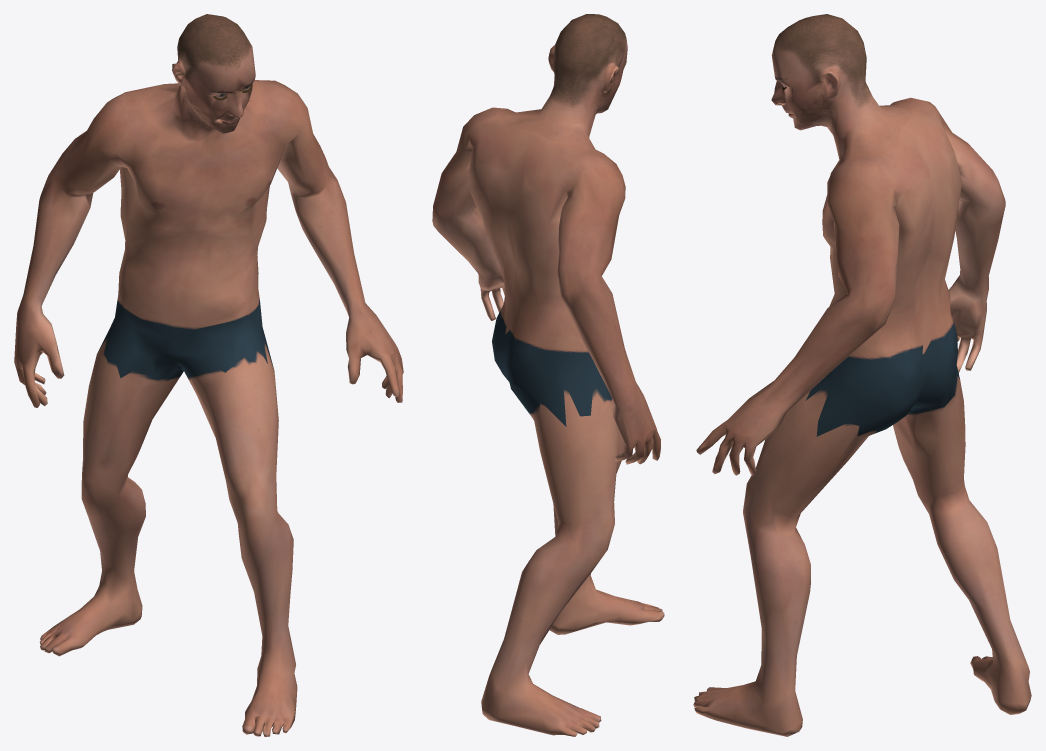
The model's file is swimmer.glb.
3 renders of one model, left to right at view 1: azimuth 30°, elevation 25°; view 2: azimuth 150°, elevation 25°; view 3: azimuth 270°, elevation 25°, orthographic. The views are drawn at different scales.
Visible parts, largest first — view 1: Body_pose; view 2: Body_pose; view 3: Body_pose.
Part boxes in pixels (x1,y1,x2,y2): Body_pose: (14,14,403,736); Body_pose: (432,14,664,736); Body_pose: (693,14,1031,736).
Size of the model in its own units: 0.7617 by 1.74 by 0.7706.
Materials: 1 (1 with a texture image).
